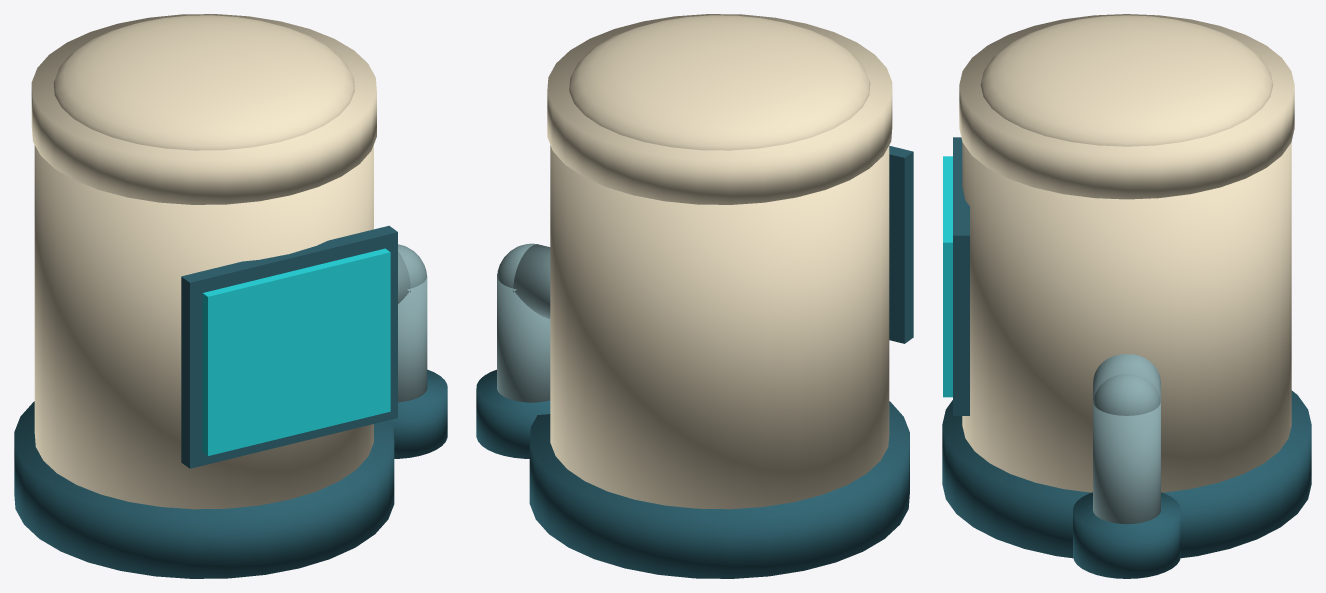
The model's file is refinery.glb.
3 views of the same model, side by side, from view 1: azimuth 30°, elevation 25°; view 2: azimuth 150°, elevation 25°; view 3: azimuth 270°, elevation 25° (orthographic). The views are drawn at different scales.
Visible parts, largest first — view 1: Refinery tank, Rounded refinery crown, Refinery window, Refinery base, Refinery lid, Refinery window frame, Pipe foot, Refinery pipe, Pipe elbow; view 2: Refinery tank, Rounded refinery crown, Refinery base, Refinery lid, Refinery pipe, Refinery window frame, Pipe foot, Refinery pipe connection, Pipe elbow; view 3: Refinery tank, Rounded refinery crown, Refinery lid, Refinery base, Refinery pipe, Pipe foot, Refinery window frame, Refinery window, Pipe elbow, Refinery pipe connection.
Boxes of the visible parts, x1,y1,x2,y2 form: Refinery tank: (34,145,373,509); Rounded refinery crown: (53,15,354,150); Refinery window: (202,248,390,455); Refinery base: (14,401,394,578); Refinery lid: (31,14,376,204); Refinery window frame: (181,225,397,468); Pipe foot: (389,369,447,458); Refinery pipe: (398,274,427,402); Pipe elbow: (398,244,426,288); Refinery tank: (550,145,889,509); Rounded refinery crown: (569,15,870,150); Refinery base: (529,401,909,578); Refinery lid: (547,14,892,204); Refinery pipe: (497,274,550,402); Refinery window frame: (889,145,913,343); Pipe foot: (476,369,550,458); Refinery pipe connection: (513,244,550,318); Pipe elbow: (497,243,536,288); Refinery tank: (962,142,1291,492); Rounded refinery crown: (980,15,1273,146); Refinery lid: (959,14,1294,199); Refinery base: (942,390,1311,558); Refinery pipe: (1093,401,1160,524); Pipe foot: (1073,492,1180,578); Refinery window frame: (953,137,969,415); Refinery window: (943,156,952,397); Pipe elbow: (1093,374,1160,415); Refinery pipe connection: (1093,354,1160,400).
Bounding box in the file's own units: 1.58 × 1.68 × 1.3.
